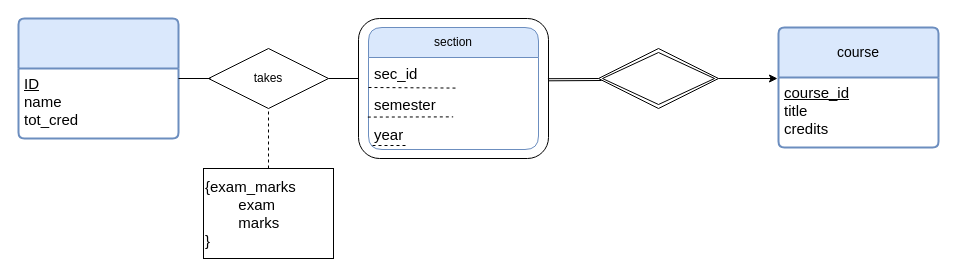
Image size: 956x276. Some labels were removed from this diagram. Here are the shapes that lost their labels. From the top down, the box of each, then its label:
(17, 17, 179, 139): student
(598, 48, 718, 108): sec_course
